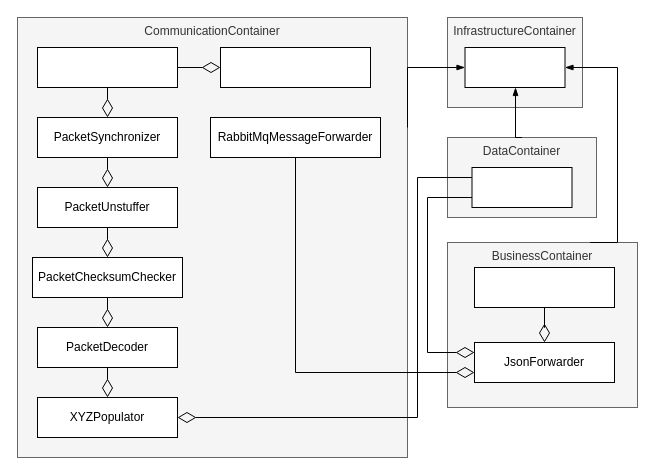
Image size: 655x475. Some labels were removed from this diagram. Here are the shapes that lost their labels. From the top down, the centre of each, then its label:
[107,67]: RadioCommDevice
[295,67]: OutputRadioCommDevice
[514,67]: I_Settings
[521,187]: I_XYZData
[544,287]: JsonMessageBuilder
